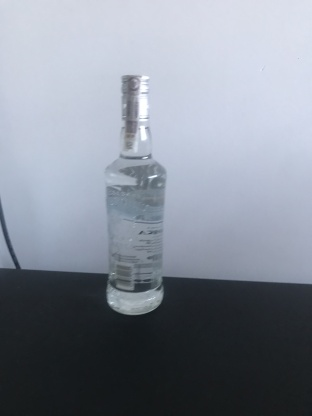nakretka: (118, 70, 152, 124)
